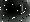person: (17, 5, 23, 16)
